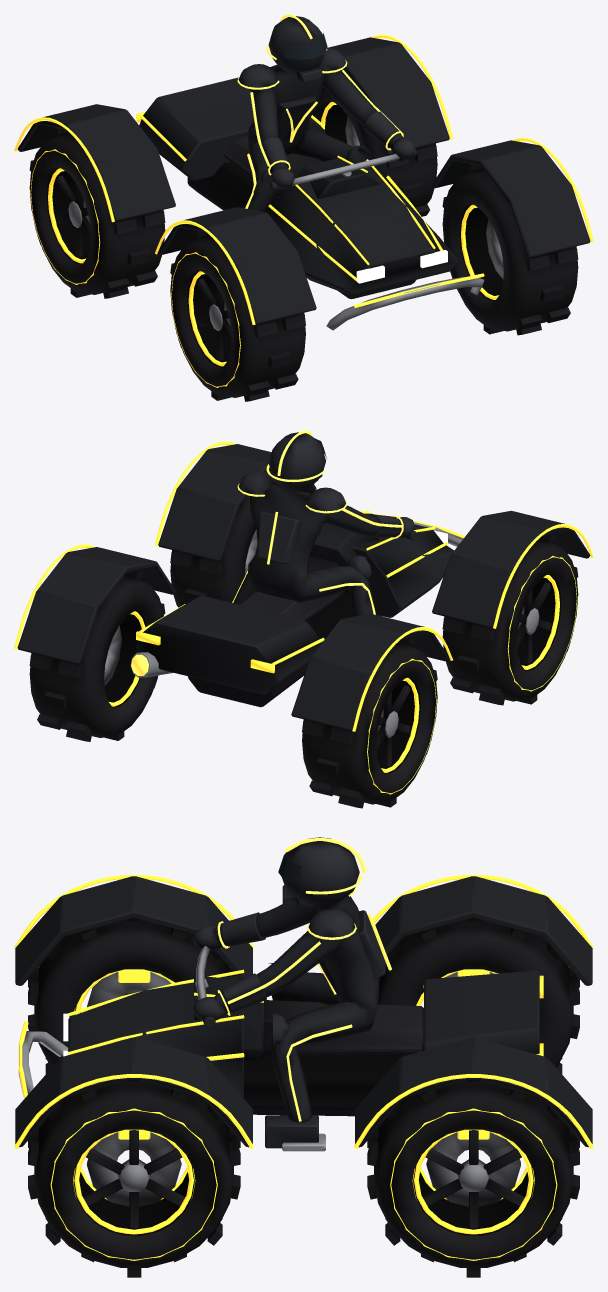
Rendered from quad_lo.glb.
The picture shows the model from 3 angles, top to bottom: view 1: azimuth 30°, elevation 25°; view 2: azimuth 150°, elevation 25°; view 3: azimuth 270°, elevation 25°; orthographic projection. The views are drawn at different scales.
Parts seen in each view (by area): view 1: VEHICLE_quad_BODY, WHEEL_FL_TIRE, WHEEL_RL_TIRE, WHEEL_FR_TIRE, VEHICLE_quad_SUIT, VEHICLE_quad_ARMOR, VEHICLE_quad_TRIM, WHEEL_RR_TIRE, VEHICLE_quad_METAL, WHEEL_RL_RIM, WHEEL_FL_RIM, VEHICLE_quad_BODY_DARK (+10 smaller); view 2: VEHICLE_quad_BODY, WHEEL_RL_TIRE, WHEEL_FL_TIRE, WHEEL_RR_TIRE, VEHICLE_quad_SUIT, WHEEL_FR_TIRE, VEHICLE_quad_ARMOR, VEHICLE_quad_TRIM, VEHICLE_quad_BODY_DARK, VEHICLE_quad_HELMET, WHEEL_RL_RIM, WHEEL_FL_RIM (+7 smaller); view 3: VEHICLE_quad_BODY, WHEEL_RR_TIRE, WHEEL_FR_TIRE, VEHICLE_quad_SUIT, WHEEL_RL_TIRE, WHEEL_FL_TIRE, VEHICLE_quad_ARMOR, VEHICLE_quad_TRIM, VEHICLE_quad_BODY_DARK, VEHICLE_quad_SEAT, WHEEL_FR_RIM, WHEEL_RR_RIM (+8 smaller).
Boxes of the visible parts, bbox=[...] form: VEHICLE_quad_BODY: bbox=[17, 37, 590, 324]; WHEEL_FL_TIRE: bbox=[170, 230, 305, 401]; WHEEL_RL_TIRE: bbox=[29, 127, 165, 298]; WHEEL_FR_TIRE: bbox=[442, 164, 578, 335]; VEHICLE_quad_SUIT: bbox=[245, 64, 403, 212]; VEHICLE_quad_ARMOR: bbox=[238, 47, 415, 195]; VEHICLE_quad_TRIM: bbox=[14, 34, 593, 324]; WHEEL_RR_TIRE: bbox=[312, 68, 437, 216]; VEHICLE_quad_METAL: bbox=[292, 154, 484, 330]; WHEEL_RL_RIM: bbox=[46, 168, 90, 264]; WHEEL_FL_RIM: bbox=[187, 271, 231, 367]; VEHICLE_quad_BODY_DARK: bbox=[187, 161, 416, 299]; VEHICLE_quad_BODY: bbox=[17, 444, 590, 730]; WHEEL_RL_TIRE: bbox=[302, 637, 437, 808]; WHEEL_FL_TIRE: bbox=[442, 534, 578, 705]; WHEEL_RR_TIRE: bbox=[29, 570, 165, 741]; VEHICLE_quad_SUIT: bbox=[233, 482, 401, 616]; WHEEL_FR_TIRE: bbox=[170, 469, 271, 607]; VEHICLE_quad_ARMOR: bbox=[238, 471, 415, 580]; VEHICLE_quad_TRIM: bbox=[14, 441, 593, 731]; VEHICLE_quad_BODY_DARK: bbox=[188, 593, 381, 707]; VEHICLE_quad_HELMET: bbox=[268, 432, 325, 491]; WHEEL_RL_RIM: bbox=[376, 677, 420, 774]; WHEEL_FL_RIM: bbox=[517, 574, 561, 671]; VEHICLE_quad_BODY: bbox=[15, 876, 592, 1147]; WHEEL_RR_TIRE: bbox=[367, 1079, 579, 1277]; WHEEL_FR_TIRE: bbox=[28, 1079, 240, 1277]; VEHICLE_quad_SUIT: bbox=[214, 895, 379, 1122]; WHEEL_RL_TIRE: bbox=[378, 918, 579, 1074]; WHEEL_FL_TIRE: bbox=[28, 918, 236, 1074]; VEHICLE_quad_ARMOR: bbox=[192, 887, 385, 1148]; VEHICLE_quad_TRIM: bbox=[14, 875, 593, 1148]; VEHICLE_quad_BODY_DARK: bbox=[244, 1055, 404, 1116]; VEHICLE_quad_SEAT: bbox=[200, 948, 423, 1056]; WHEEL_FR_RIM: bbox=[73, 1130, 194, 1235]; WHEEL_RR_RIM: bbox=[413, 1130, 534, 1235].
Bounding box in the file's own units: 2.38 × 1.91 × 2.9.
